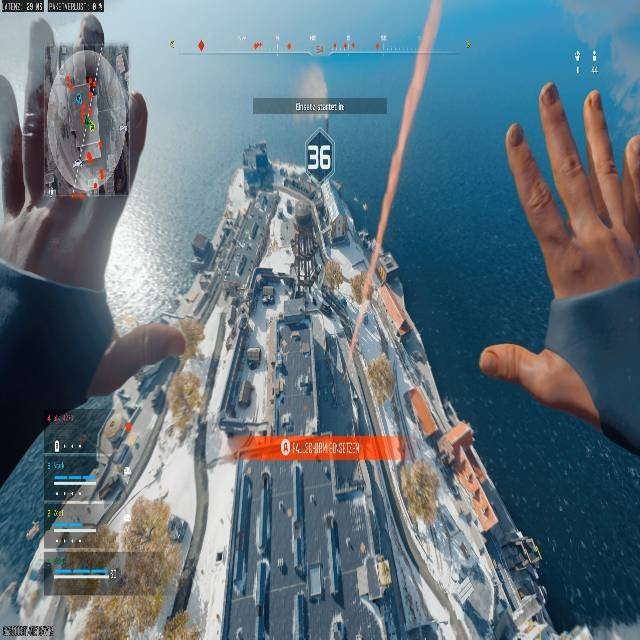head: (304, 132, 335, 177), (76, 18, 105, 52)
